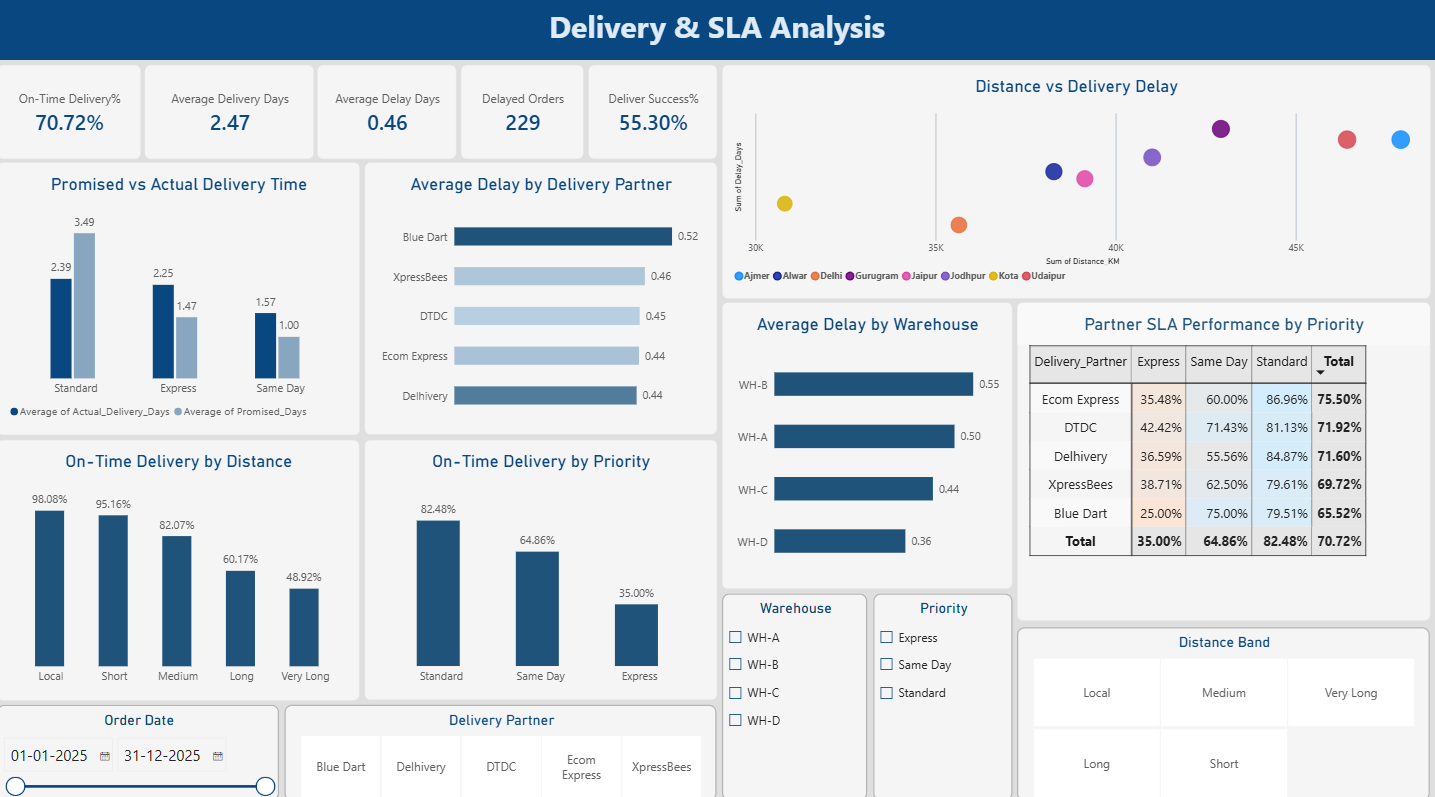

The page's visual inventory and layout, read from the dashboard file:
{"tool":"powerbi","page":{"name":"Delivery & SLA Analysis","canvas":[1920,1080],"ordinal":1},"visuals":[{"type":"shape","box":[0,0,1920,92],"z":0},{"type":"cardVisual","fields":{"Data":["Logistics_Data.On-Time Delivery%"]},"box":[0,98,192,126],"z":1000},{"type":"cardVisual","fields":{"Data":["Logistics_Data.Deliver Success%"]},"box":[788,98,172,126],"z":2000},{"type":"cardVisual","fields":{"Data":["Logistics_Data.Delayed Orders"]},"box":[618,98,164,126],"z":3000},{"type":"cardVisual","fields":{"Data":["Logistics_Data.Average Delay Days"]},"box":[427.3,98,186,126],"z":4000},{"type":"cardVisual","fields":{"Data":["Logistics_Data.Average Delivery Days"]},"box":[196.7,98,226,126],"z":5000},{"type":"clusteredColumnChart","title":"Promised vs Actual Delivery Time","fields":{"Category":["Logistics_Data.Priority"],"Y":["Avg(Logistics_Data.Actual_Delivery_Days)","Avg(Logistics_Data.Promised_Days)"]},"box":[0,228,484,364],"z":6000},{"type":"scatterChart","title":"Distance vs Delivery Delay","fields":{"Series":["Logistics_Data.Destination_City"],"Size":["Logistics_Data.Total Logistics Cost"],"X":["Sum(Logistics_Data.Distance_KM)"],"Y":["Sum(Logistics_Data.Delay_Days)"]},"box":[966.7,97.8,944.4,312.2],"z":7000},{"type":"columnChart","title":"On-Time Delivery by Priority","fields":{"Category":["Logistics_Data.Priority"],"Y":["Logistics_Data.On-Time Delivery%"]},"box":[490,598.8,470,347.5],"z":8000},{"type":"barChart","title":"Average Delay by Delivery Partner","fields":{"Category":["Logistics_Data.Delivery_Partner"],"Y":["Logistics_Data.Average Delay Days"]},"box":[490,228.3,470,363.3],"z":9000},{"type":"columnChart","title":"On-Time Delivery by Distance","fields":{"Category":["Logistics_Data.Distance_Band"],"Y":["Logistics_Data.On-Time Delivery%"]},"box":[0,598.6,483.6,347.9],"z":10000},{"type":"barChart","title":"Average Delay by Warehouse","fields":{"Category":["Logistics_Data.Warehouse"],"Y":["Logistics_Data.Average Delay Days"]},"box":[966.5,414.7,387.1,382.4],"z":11000},{"type":"pivotTable","title":"Partner SLA Performance by Priority","fields":{"Columns":["Logistics_Data.Priority"],"Rows":["Logistics_Data.Delivery_Partner"],"Values":["Logistics_Data.On-Time Delivery%"]},"box":[1360,415,551.2,425],"z":12000},{"type":"slicer","title":"Order Date","fields":{"Values":["Logistics_Data.Order_Date"]},"box":[0,952,376,128],"z":13000},{"type":"slicer","title":"Delivery Partner","fields":{"Values":["Logistics_Data.Delivery_Partner"]},"box":[384,952,576,128],"z":14000},{"type":"slicer","title":"Priority","fields":{"Values":["Logistics_Data.Priority"]},"box":[1168.2,803.6,185.5,276.4],"z":15000},{"type":"slicer","title":"Warehouse","fields":{"Values":["Logistics_Data.Warehouse"]},"box":[966.4,803.6,193.6,276.4],"z":16000},{"type":"slicer","title":"Distance Band","fields":{"Values":["Logistics_Data.Distance_Band"]},"box":[1360,848.8,550,231.2],"z":17000}]}

Visuals, with their boxes in screenshot pixels (x1, y1, x2, y2), scaled from the page's 1920x1080 canvas onto the 1435x797 screenshot:
shape: box=[0, 0, 1434, 68]
cardVisual - Logistics_Data.On-Time Delivery%: box=[0, 72, 144, 165]
cardVisual - Logistics_Data.Deliver Success%: box=[589, 72, 718, 165]
cardVisual - Logistics_Data.Delayed Orders: box=[462, 72, 584, 165]
cardVisual - Logistics_Data.Average Delay Days: box=[319, 72, 458, 165]
cardVisual - Logistics_Data.Average Delivery Days: box=[147, 72, 316, 165]
"Promised vs Actual Delivery Time" clusteredColumnChart: box=[0, 168, 362, 437]
"Distance vs Delivery Delay" scatterChart: box=[723, 72, 1428, 303]
"On-Time Delivery by Priority" columnChart: box=[366, 442, 718, 698]
"Average Delay by Delivery Partner" barChart: box=[366, 168, 718, 437]
"On-Time Delivery by Distance" columnChart: box=[0, 442, 361, 698]
"Average Delay by Warehouse" barChart: box=[722, 306, 1012, 588]
"Partner SLA Performance by Priority" pivotTable: box=[1016, 306, 1428, 620]
"Order Date" slicer: box=[0, 703, 281, 796]
"Delivery Partner" slicer: box=[287, 703, 718, 796]
"Priority" slicer: box=[873, 593, 1012, 796]
"Warehouse" slicer: box=[722, 593, 867, 796]
"Distance Band" slicer: box=[1016, 626, 1428, 796]
